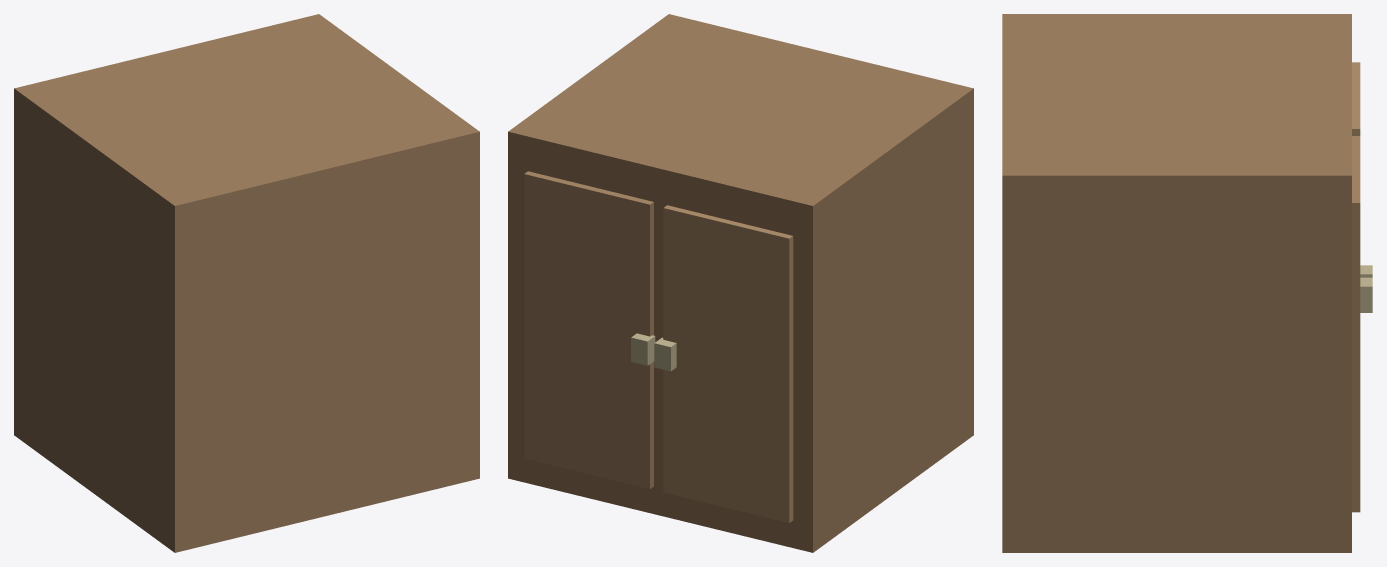
Rendered from cabinet.gltf.
3 renders of one model, left to right at view 1: azimuth 30°, elevation 25°; view 2: azimuth 150°, elevation 25°; view 3: azimuth 270°, elevation 25°, orthographic. The views are drawn at different scales.
Visible parts, largest first — view 1: cabinet; view 2: cabinet; view 3: cabinet.
Part boxes in pixels (x1,y1,x2,y2): cabinet: (14,14,479,552); cabinet: (508,14,973,552); cabinet: (1002,14,1372,552).
Bounding box in the file's own units: 0.92 × 1 × 0.89.
